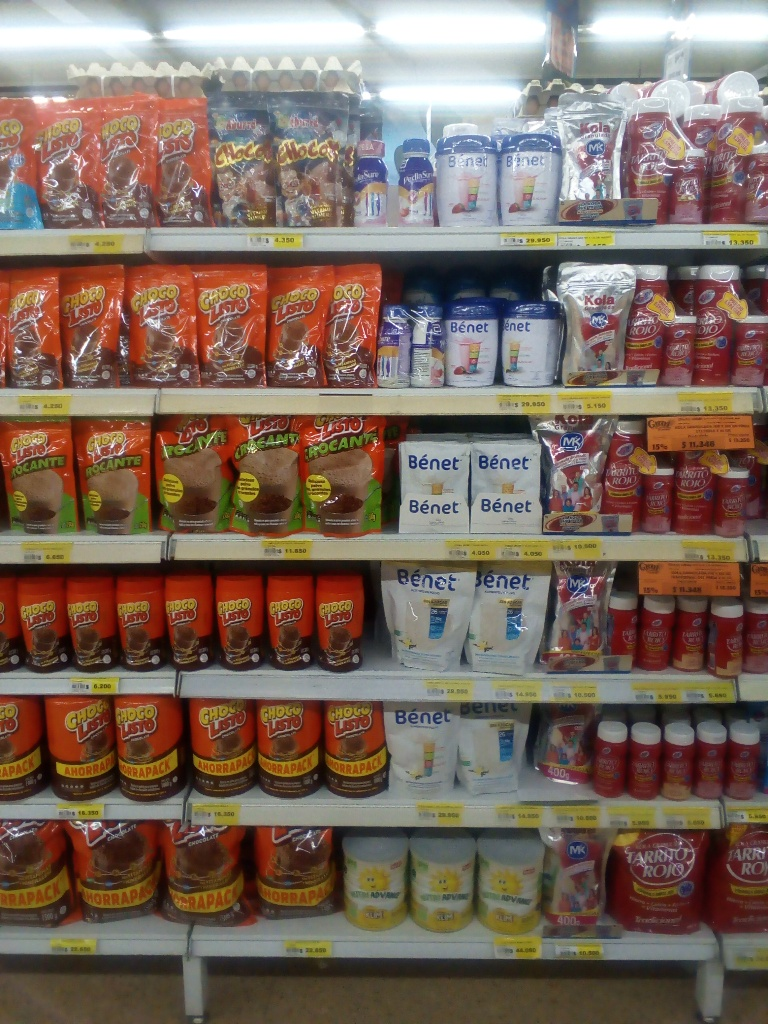COL0170102DYP50000: (152, 409, 236, 536)
COL0170103DYP1,500: (245, 822, 345, 924)
COL0170103TRR00100: (319, 701, 392, 807)
COL0170103TRR30000: (313, 567, 371, 678)
COL0170104DYP20000: (0, 93, 48, 233)
